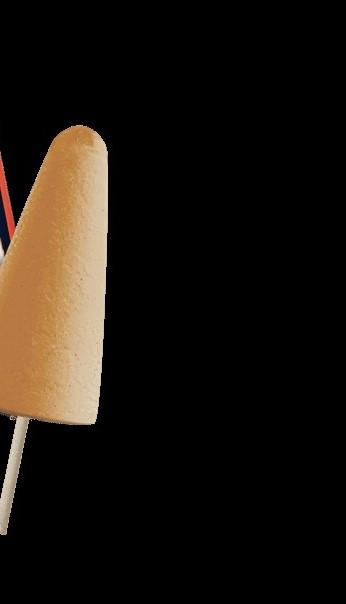Kulfi: (0, 122, 109, 427)
